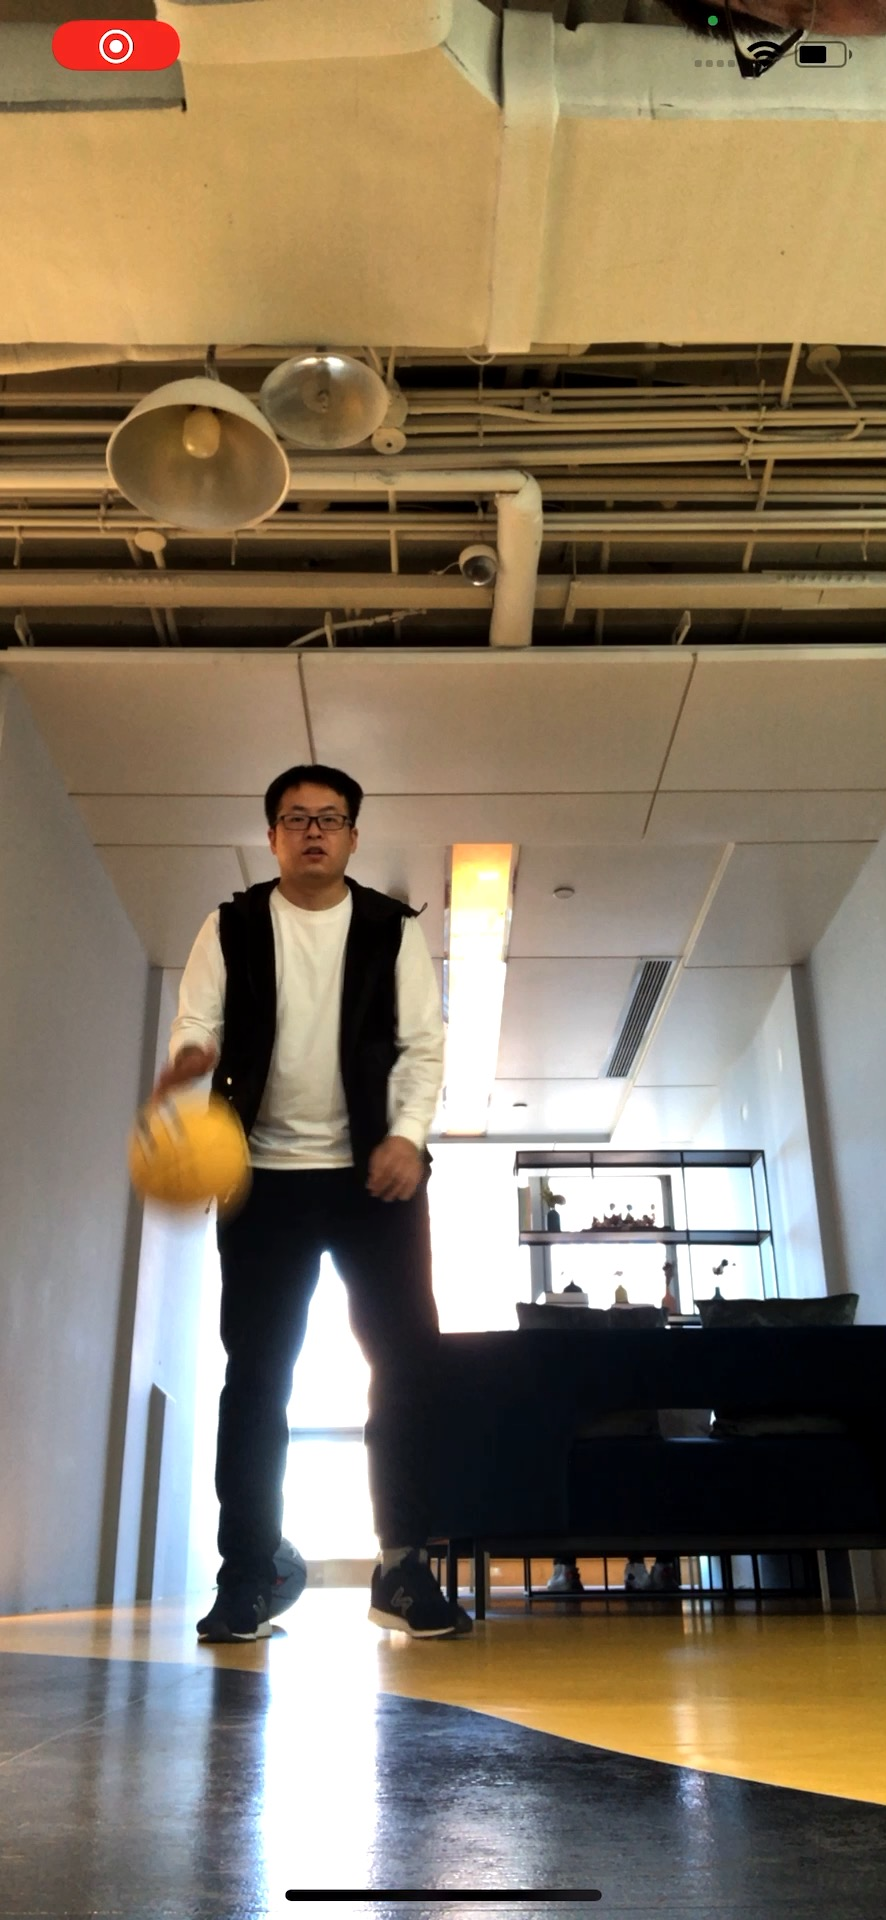ball: (131, 1089, 251, 1221)
